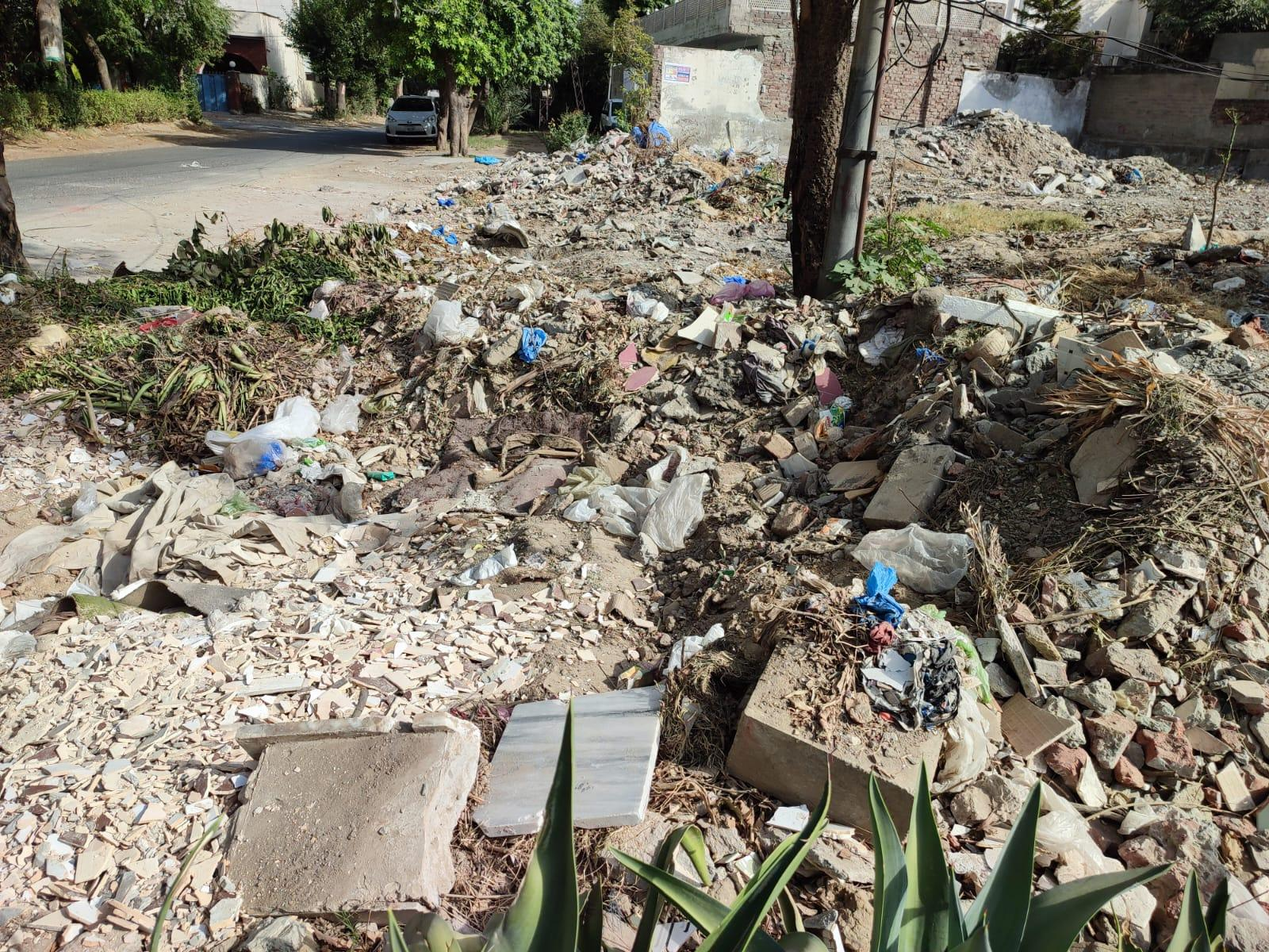garbage: (171, 89, 1269, 815)
